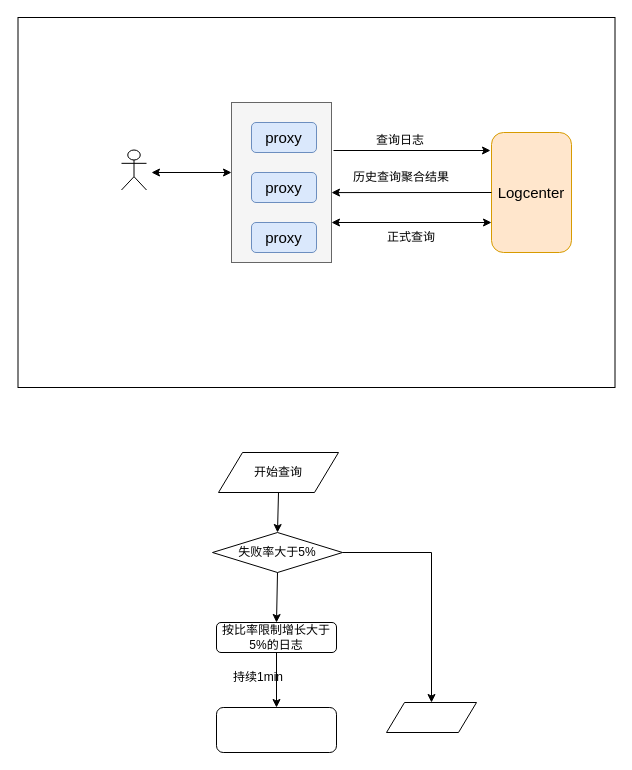
This 632x770 diagram has some shape labels left out. The shapes that lost their labels are listed below. From the top down, each one's centre as x and y in pixels, then its label:
point (133, 169): Actor
point (276, 729): 按比率限制查询时间top10%的日志
point (431, 717): 正常查询
